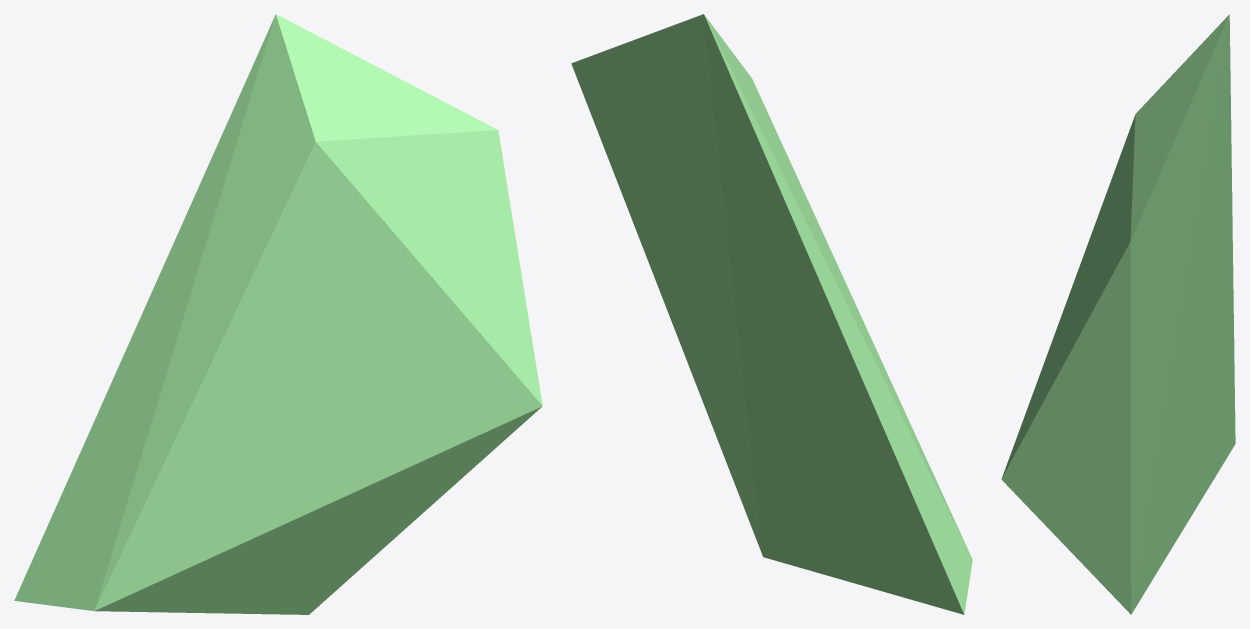
Rendered from linkhou_LR4_R560_link2_respondable_coll_17.dae.
3 views of the same model, side by side, from view 1: azimuth 30°, elevation 25°; view 2: azimuth 150°, elevation 25°; view 3: azimuth 270°, elevation 25° (orthographic). The views are drawn at different scales.
Parts seen in each view (by area): view 1: Node_00000209DB3AC2E0; view 2: Node_00000209DB3AC2E0; view 3: Node_00000209DB3AC2E0.
Part boxes in pixels (x1,y1,x2,y2): Node_00000209DB3AC2E0: [14, 14, 542, 614]; Node_00000209DB3AC2E0: [571, 14, 972, 614]; Node_00000209DB3AC2E0: [1001, 14, 1235, 614].
Bounding box in the file's own units: 0.0374 × 0.0463 × 0.0162.
